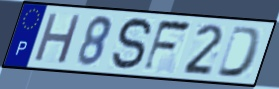2: (179, 23, 225, 77)
8: (75, 14, 113, 69)
D: (214, 24, 265, 80)
F: (140, 19, 194, 74)
H: (31, 11, 84, 66)
S: (110, 16, 155, 72)
